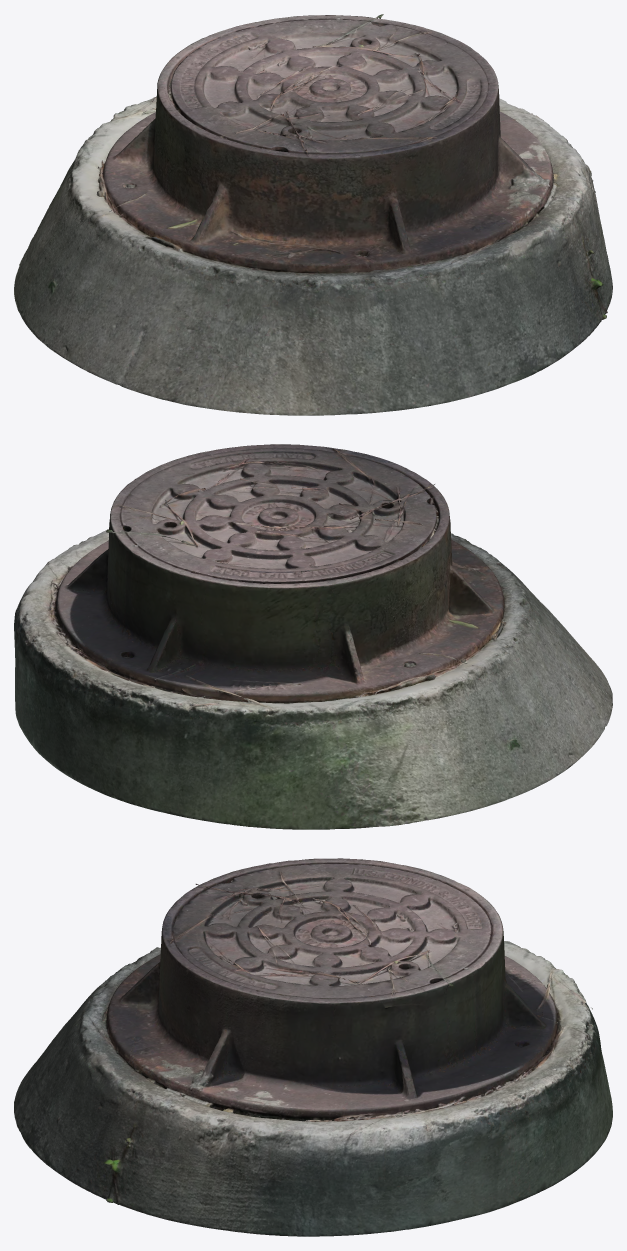
File: manhole-raised-frame.glb
3 renders of one model, top to bottom at view 1: azimuth 30°, elevation 25°; view 2: azimuth 150°, elevation 25°; view 3: azimuth 270°, elevation 25°, orthographic.
Visible parts, largest first — view 1: Object_2; view 2: Object_2; view 3: Object_2.
Part boxes in pixels (bbox=[...]): Object_2: bbox=[14, 14, 612, 415]; Object_2: bbox=[14, 444, 612, 829]; Object_2: bbox=[14, 858, 612, 1236].
Size of the model in its own units: 30.92 by 11.05 by 30.84.
1 material, 1 textured.
